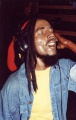male: (21, 15, 67, 73)
